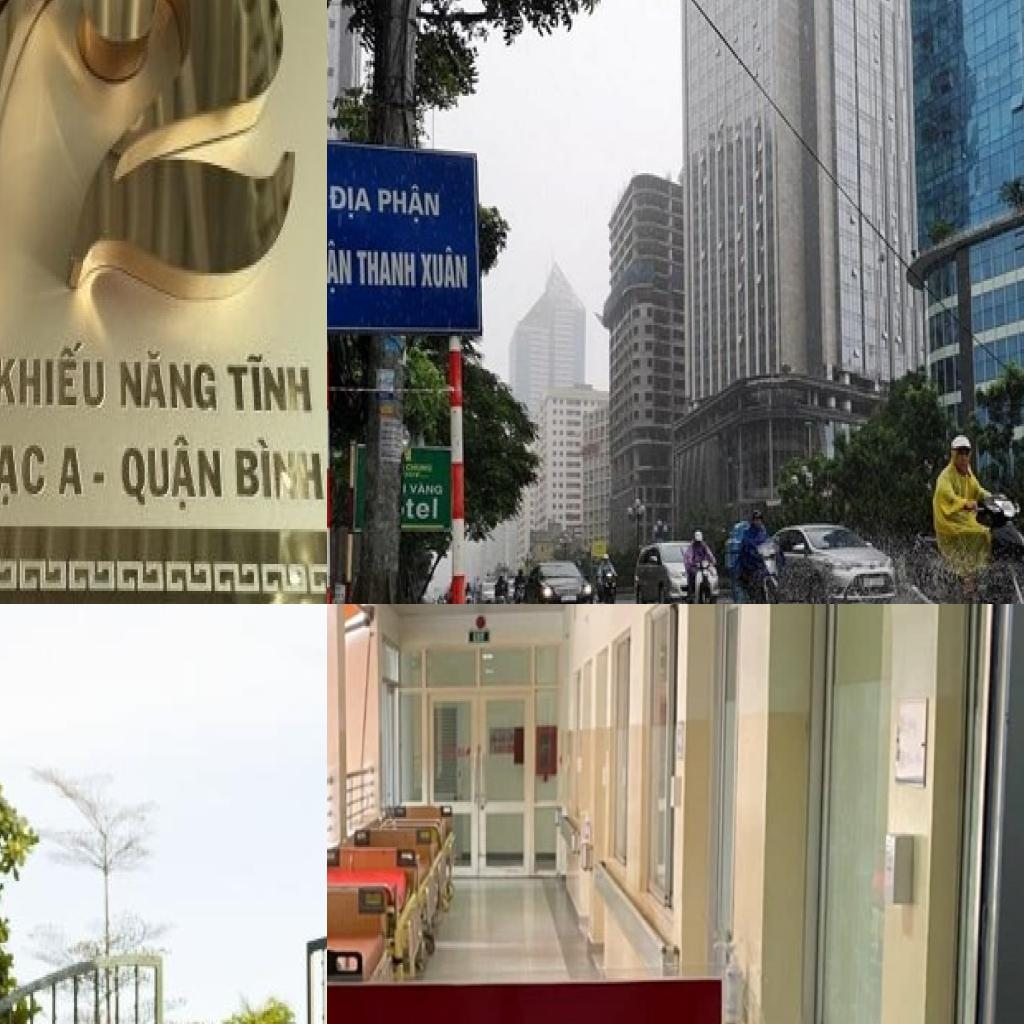text: (0, 0, 307, 327), (0, 335, 114, 424), (117, 429, 225, 521), (112, 340, 223, 424), (222, 340, 319, 424), (230, 431, 327, 507), (52, 434, 114, 504), (0, 434, 48, 510), (375, 180, 444, 226), (355, 246, 419, 292), (419, 244, 472, 294), (327, 181, 376, 221), (327, 239, 355, 298), (404, 495, 442, 523), (406, 479, 446, 499)
